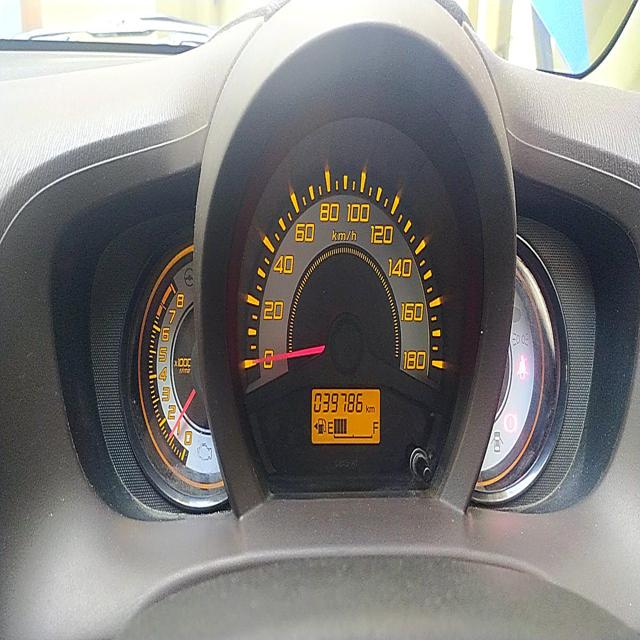odometer: (313, 389, 364, 417)
